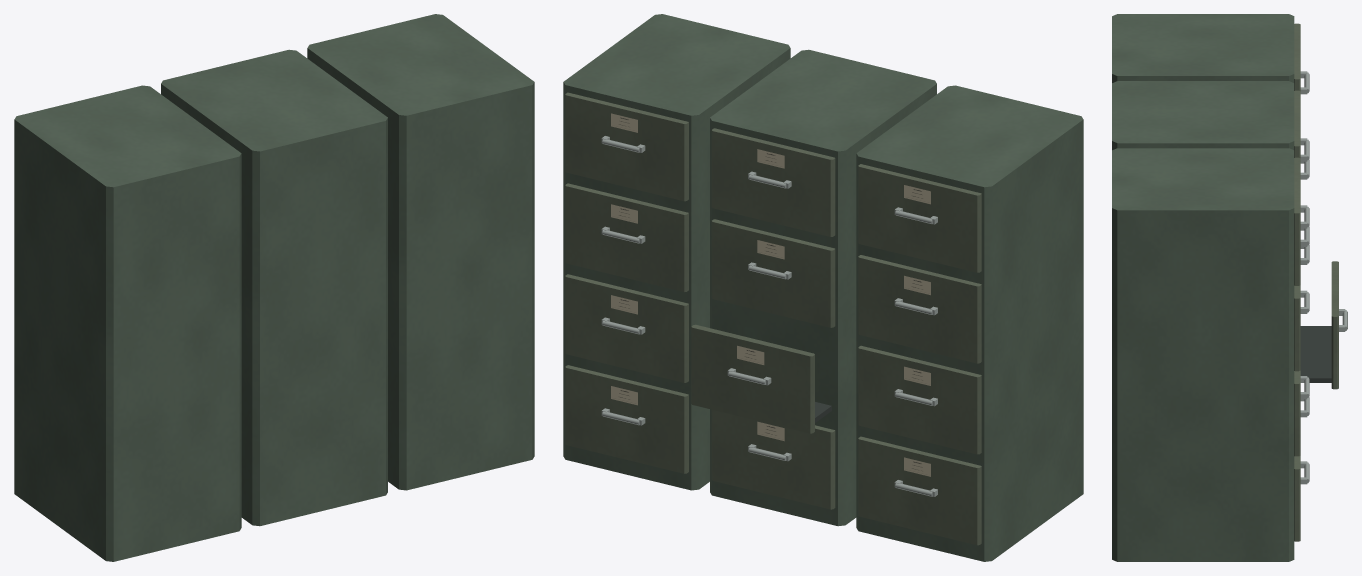
Rendered from SM_ArchiveProps_FilingCabinets_LOD2.fbx.
3 renders of one model, left to right at view 1: azimuth 30°, elevation 25°; view 2: azimuth 150°, elevation 25°; view 3: azimuth 270°, elevation 25°, orthographic. The views are drawn at different scales.
Visible parts, largest first — view 1: SM_ArchiveProps_FilingCabinets_LOD2; view 2: SM_ArchiveProps_FilingCabinets_LOD2; view 3: SM_ArchiveProps_FilingCabinets_LOD2.
Boxes of the visible parts, <box> form: SM_ArchiveProps_FilingCabinets_LOD2: <box>14,14,534,561</box>; SM_ArchiveProps_FilingCabinets_LOD2: <box>563,14,1083,561</box>; SM_ArchiveProps_FilingCabinets_LOD2: <box>1112,14,1347,561</box>.
Bounding box in the file's own units: 1.58 × 0.802 × 1.32.
